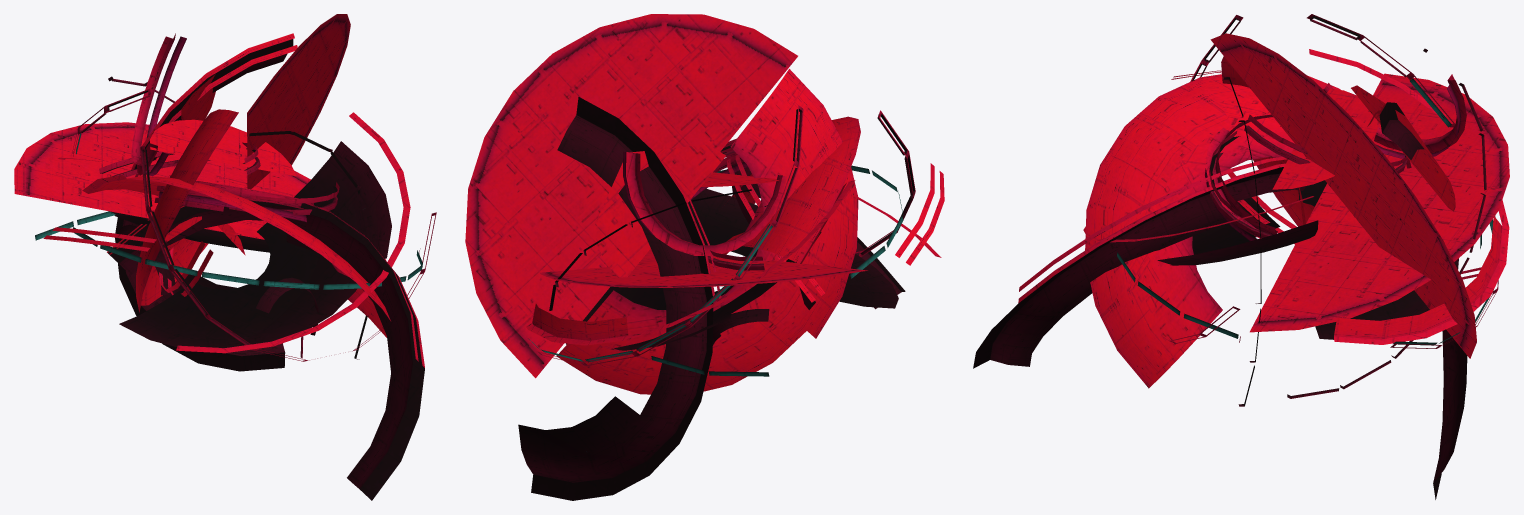
The model's file is MonsterB_Die4.obj.
3 views of the same model, side by side, from view 1: azimuth 30°, elevation 25°; view 2: azimuth 150°, elevation 25°; view 3: azimuth 270°, elevation 25° (orthographic). The views are drawn at different scales.
Visible parts, largest first — view 1: Sphere001; view 2: Sphere001; view 3: Sphere001.
Boxes of the visible parts, box(x1,y1,x2,y2) form: Sphere001: box(14, 14, 436, 500); Sphere001: box(465, 14, 944, 500); Sphere001: box(973, 14, 1509, 499).
Bounding box in the file's own units: 211 × 229 × 261.
Materials: 1 (1 with a texture image).
